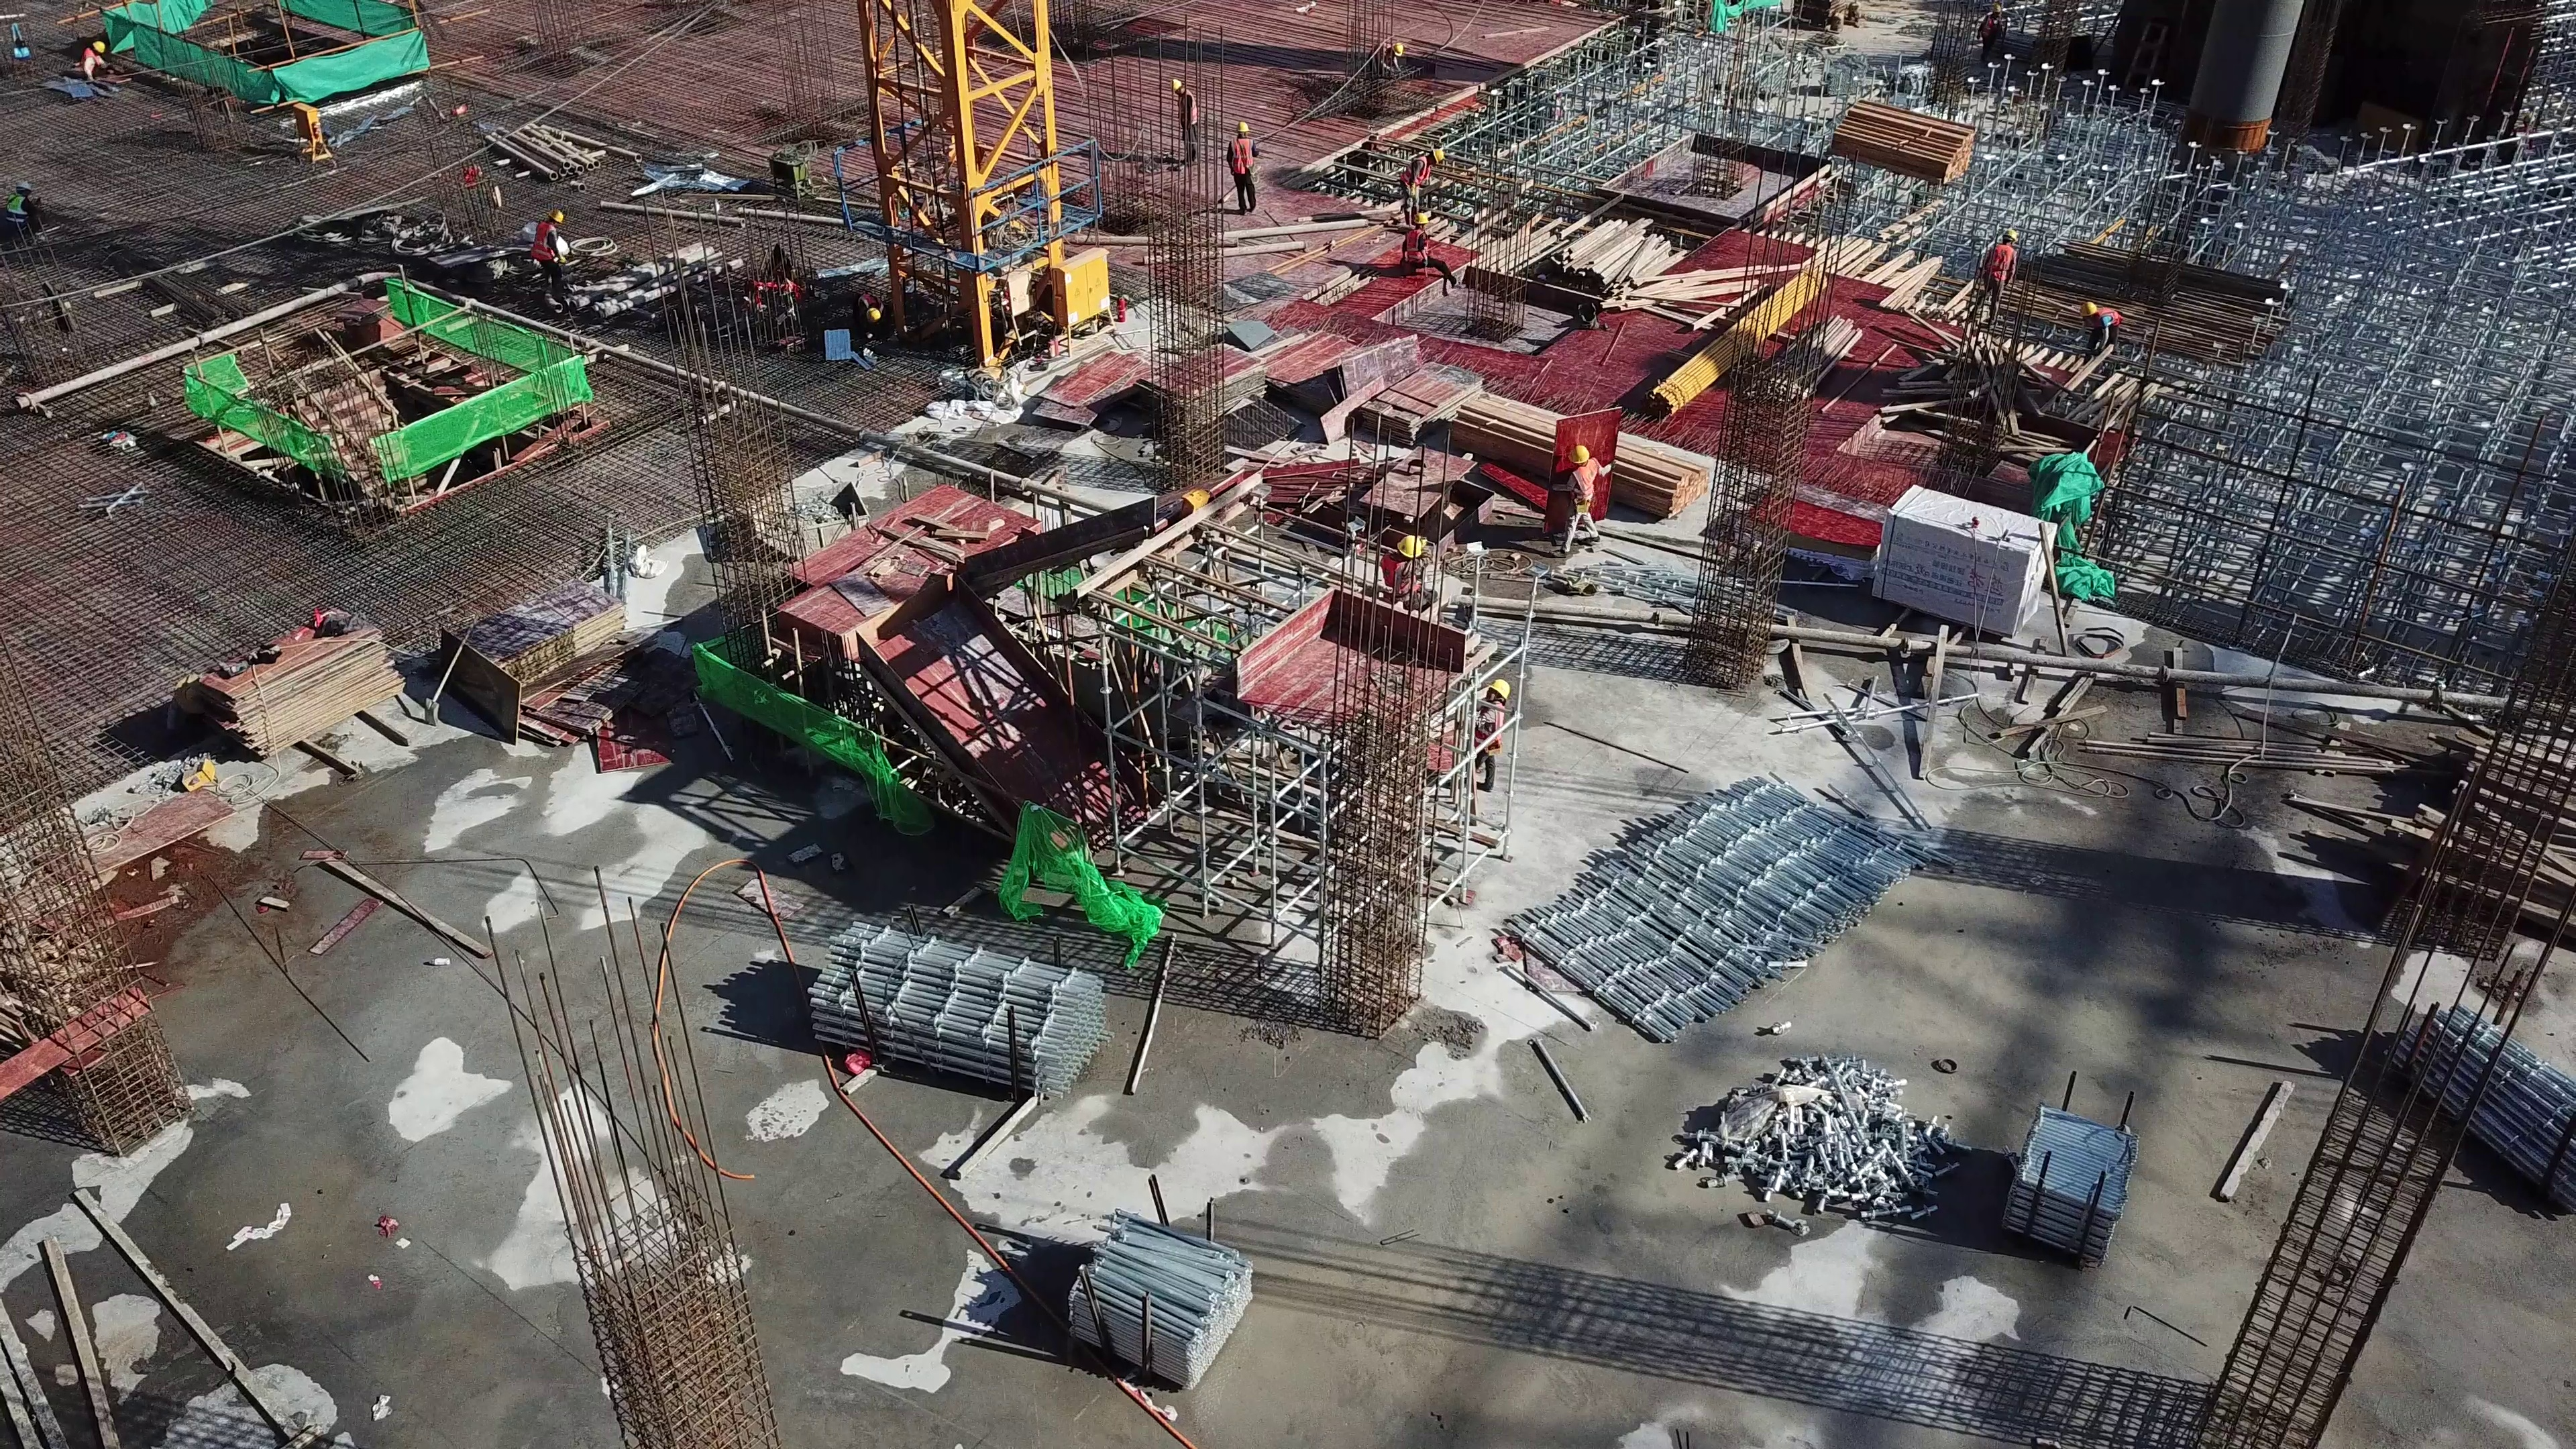person: (525, 208, 589, 322), (1974, 211, 2027, 331), (1207, 115, 1269, 211), (1560, 439, 1610, 555), (1379, 523, 1438, 608), (1394, 147, 1446, 223), (1163, 65, 1201, 158), (1379, 211, 1441, 269), (2080, 284, 2126, 354)
